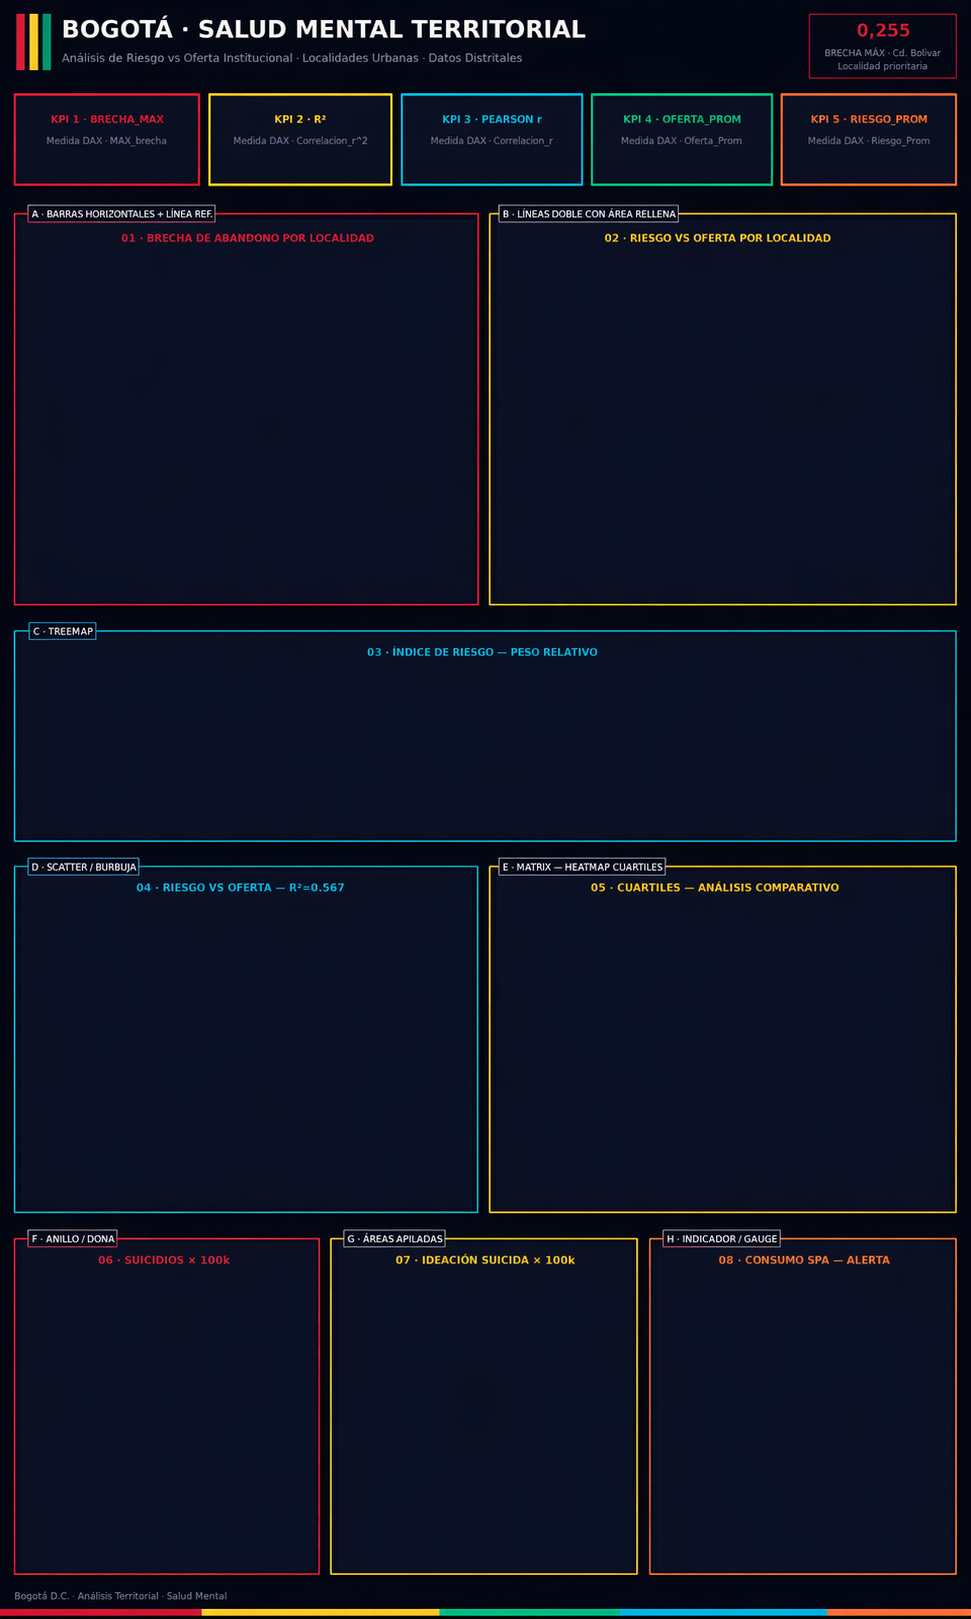

The dashboard page shown, as its layout file describes it:
{"tool":"powerbi","page":{"name":"Página 1","canvas":[816,1356],"ordinal":0},"visuals":[{"type":"scatterChart","fields":{"X":["tbl_scatter.Indice_Riesgo"],"Y":["tbl_scatter.Indice_Oferta"],"Series":["tbl_scatter.Localidad"],"Size":["CountNonNull(tbl_scatter.Indice_Riesgo)"]},"box":[12.2,738.8,394.9,271.4],"z":0},{"type":"clusteredBarChart","fields":{"Category":["tbl_localidades.Localidad"],"Y":["Sum(tbl_localidades.Brecha_Abandono)"]},"box":[12.2,201,386.7,300],"z":1000},{"type":"lineChart","fields":{"Category":["tbl_localidades.Localidad"],"Y":["Sum(tbl_localidades.Indice_Riesgo)"],"Y2":["Sum(tbl_localidades.Indice_Oferta)"]},"box":[419.4,175.5,385.7,325.5],"z":2000},{"type":"card","fields":{"Values":["___Medidas.Brecha_Max"]},"box":[12.2,75.5,154.1,74.5],"z":2001},{"type":"card","fields":{"Values":["___Medidas.R2"]},"box":[176.5,74.5,151,75.5],"z":2002},{"type":"card","fields":{"Values":["___Medidas.Correlacion"]},"box":[337.8,74.5,152,74.5],"z":2003},{"type":"card","fields":{"Values":["___Medidas.Oferta_Prom"]},"box":[499,75.5,150,74.5],"z":2004},{"type":"card","fields":{"Values":["___Medidas.Riesgo_Prom"]},"box":[657.1,75.5,148,73.5],"z":2005},{"type":"treemap","fields":{"Group":["tbl_localidades.Localidad"],"Values":["Sum(tbl_localidades.Indice_Riesgo)"]},"box":[12.2,526.5,792.9,177.6],"z":2006},{"type":"donutChart","fields":{"Category":["tbl_localidades.Localidad"],"Y":["Sum(tbl_localidades.Tasa_Suicidios)"]},"box":[12.2,1037.8,256.1,281.6],"z":2007},{"type":"stackedAreaChart","fields":{"Category":["tbl_localidades.Localidad"],"Y":["Sum(tbl_localidades.Tasa_Ideacion)"],"Series":["tbl_localidades.Cuartil"]},"box":[279.6,1037.8,257.1,281.6],"z":2008},{"type":"Tachometer1474636471549","fields":{"Y":["Sum(tbl_localidades.Tasa_SPA)"],"TargetValue":["___Medidas.SPA_Prom"]},"box":[548,1037.8,257.1,281.6],"z":2010},{"type":"clusteredColumnChart","fields":{"Category":["tbl_cuartiles.Cuartil"],"Y":["CountNonNull(tbl_cuartiles.Brecha_Promedio)"],"Series":["tbl_cuartiles.Oferta_Promedio"],"Rows":["tbl_cuartiles.Riesgo_Promedio"]},"box":[414.3,746.9,402,264.3],"z":2011}]}

Visuals, with their boxes in screenshot pixels (x1, y1, x2, y2), scaled from the page's 816x1356 canvas onto the 971x1619 screenshot:
scatterChart - tbl_scatter.Indice_Riesgo x tbl_scatter.Indice_Oferta: (15,882,484,1206)
clusteredBarChart - tbl_localidades.Localidad x Sum(tbl_localidades.Brecha_Abandono): (15,240,475,598)
lineChart - tbl_localidades.Localidad x Sum(tbl_localidades.Indice_Riesgo): (499,210,958,598)
card - ___Medidas.Brecha_Max: (15,90,198,179)
card - ___Medidas.R2: (210,89,390,179)
card - ___Medidas.Correlacion: (402,89,583,178)
card - ___Medidas.Oferta_Prom: (594,90,772,179)
card - ___Medidas.Riesgo_Prom: (782,90,958,178)
treemap - tbl_localidades.Localidad x Sum(tbl_localidades.Indice_Riesgo): (15,629,958,841)
donutChart - tbl_localidades.Localidad x Sum(tbl_localidades.Tasa_Suicidios): (15,1239,319,1575)
stackedAreaChart - tbl_localidades.Localidad x Sum(tbl_localidades.Tasa_Ideacion): (333,1239,639,1575)
Tachometer1474636471549 - Sum(tbl_localidades.Tasa_SPA) x ___Medidas.SPA_Prom: (652,1239,958,1575)
clusteredColumnChart - tbl_cuartiles.Cuartil x CountNonNull(tbl_cuartiles.Brecha_Promedio): (493,892,970,1207)
